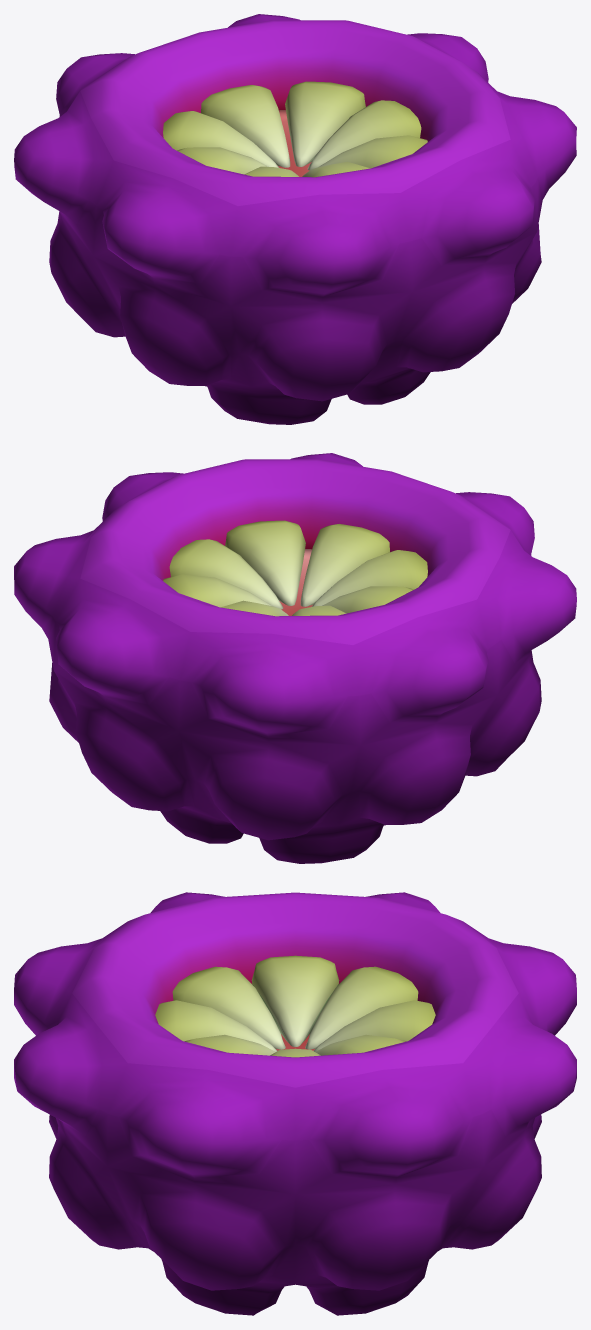
File: Sea Urchin.fbx
3 views of the same model, one above another, from view 1: azimuth 30°, elevation 25°; view 2: azimuth 150°, elevation 25°; view 3: azimuth 270°, elevation 25° (orthographic). The views are drawn at different scales.
Parts seen in each view (by area): view 1: SeaUrchin; view 2: SeaUrchin; view 3: SeaUrchin.
Part boxes in pixels (x1=…): SeaUrchin: x1=14, y1=14, x2=576, y2=424; SeaUrchin: x1=14, y1=453, x2=576, y2=863; SeaUrchin: x1=14, y1=892, x2=576, y2=1315.
Bounding box in the file's own units: 3.44 × 2.07 × 3.44.
